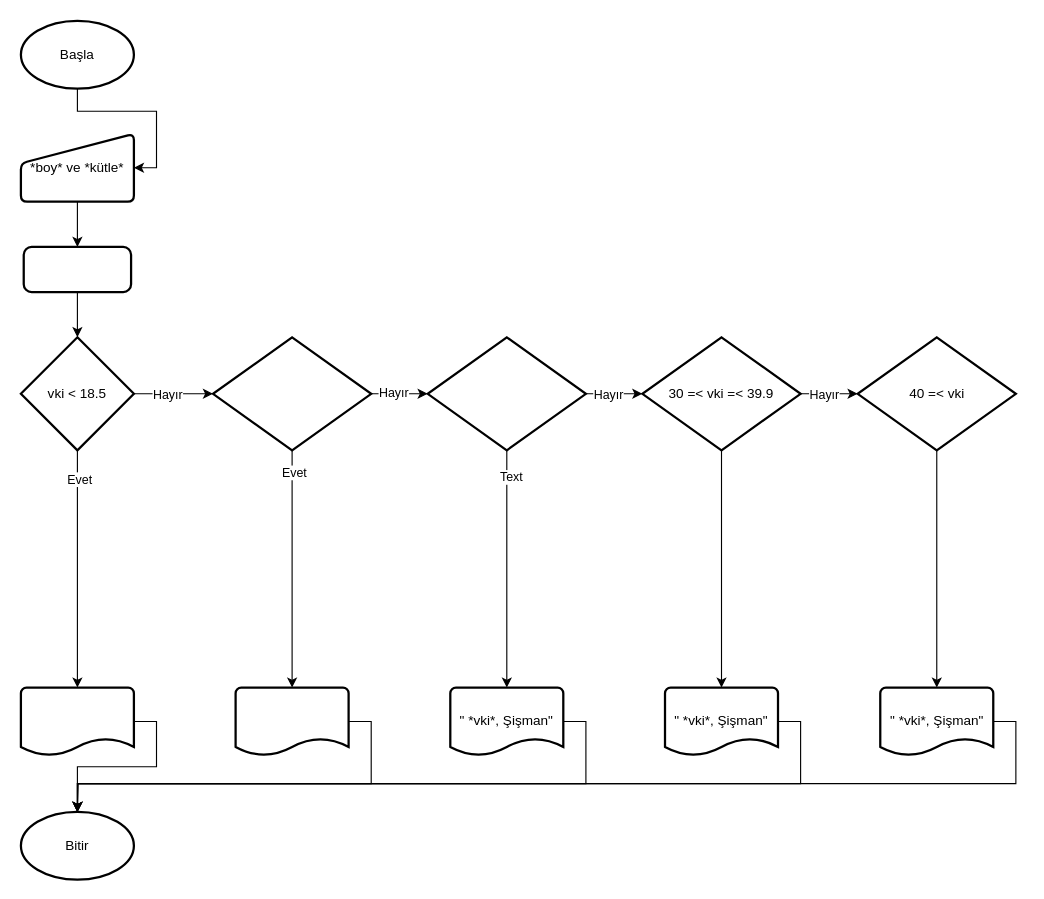
This 1044x899 diagram has some shape labels left out. Each missing label, with the centre of its shape:
" *vki*, Sağlıklı": point 291,721
" *vki*, Zayıf": point 76,721
18.5 =< vki =< 24.9: point 291,393
25 =< vki =< 29.9: point 506,393
vki = boy / kütle*kütle: point 77,269
